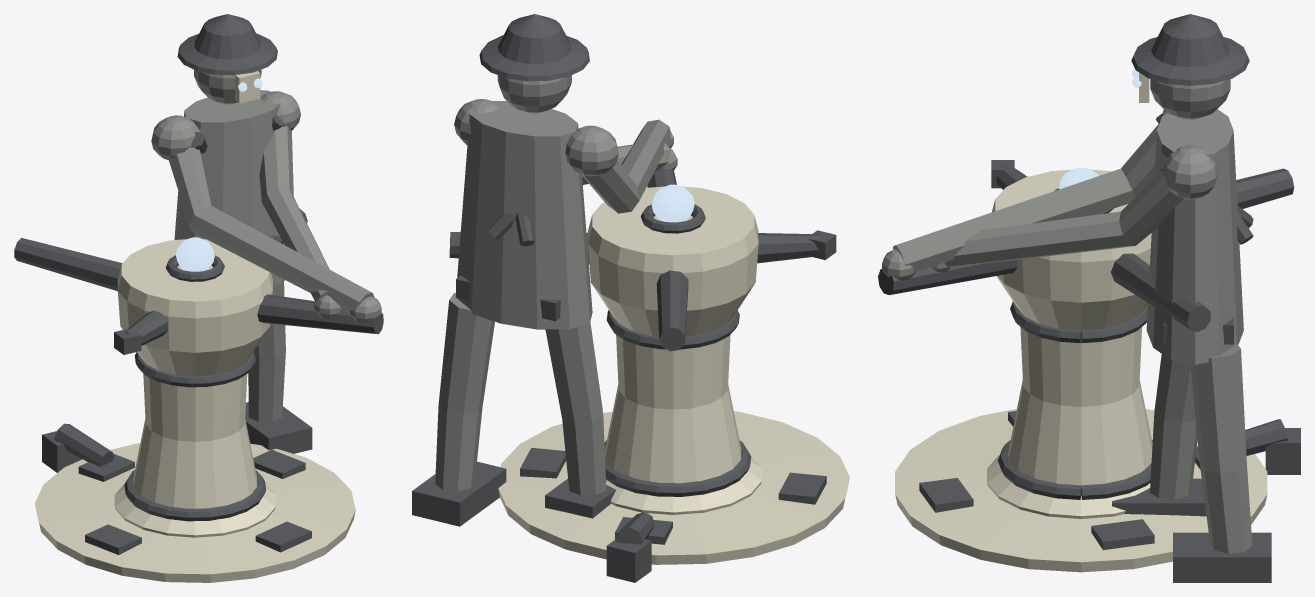
Rendered from relief.glb.
3 renders of one model, left to right at view 1: azimuth 30°, elevation 25°; view 2: azimuth 150°, elevation 25°; view 3: azimuth 270°, elevation 25°, orthographic. The views are drawn at different scales.
Visible parts, largest first — view 1: relief_bone, relief_body, relief_dark, relief_glow; view 2: relief_bone, relief_body, relief_dark, relief_glow; view 3: relief_bone, relief_body, relief_dark, relief_glow.
Boxes of the visible parts, left/top/right/bottom form: relief_bone: left=35, top=71, right=355, bottom=582; relief_body: left=151, top=69, right=381, bottom=421; relief_dark: left=14, top=14, right=383, bottom=554; relief_glow: left=175, top=78, right=262, bottom=271; relief_bone: left=498, top=186, right=849, bottom=564; relief_body: left=435, top=75, right=677, bottom=495; relief_dark: left=412, top=14, right=836, bottom=582; relief_glow: left=651, top=184, right=694, bottom=222; relief_bone: left=895, top=72, right=1267, bottom=572; relief_body: left=882, top=79, right=1252, bottom=553; relief_dark: left=878, top=14, right=1300, bottom=582; relief_glow: left=1059, top=69, right=1141, bottom=189.
Bounding box in the file's own units: 1.74 × 2.52 × 1.84.
